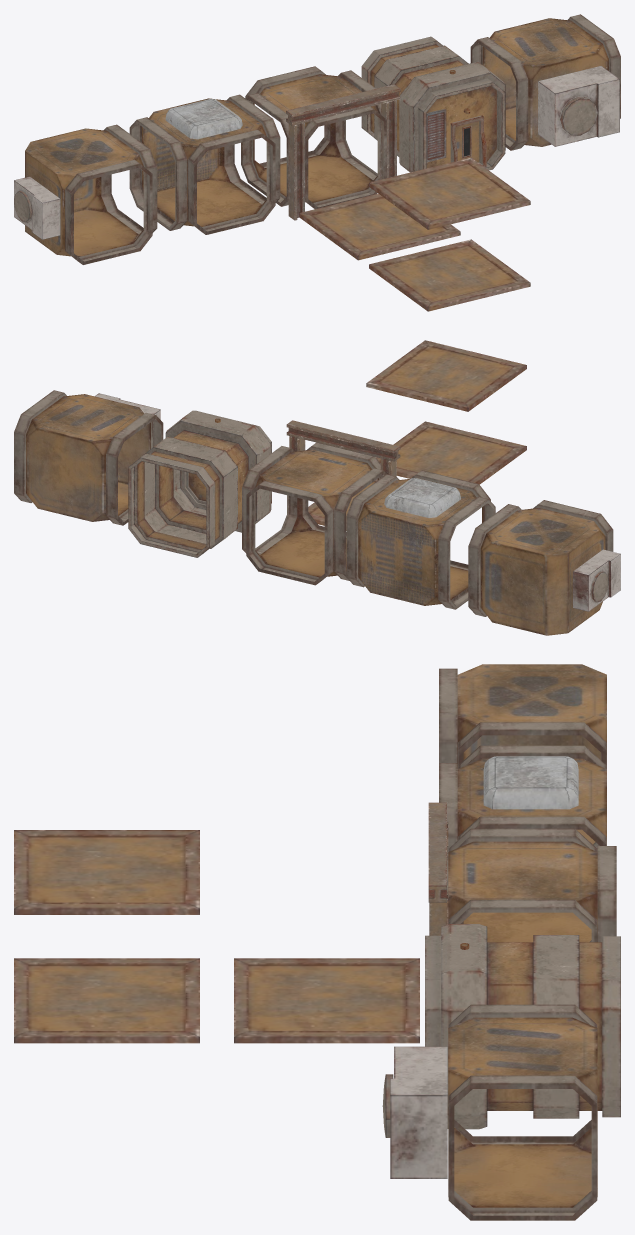
File: stacks.glb
The picture shows the model from 3 angles, top to bottom: view 1: azimuth 30°, elevation 25°; view 2: azimuth 150°, elevation 25°; view 3: azimuth 270°, elevation 25°; orthographic projection. The views are drawn at different scales.
Visible parts, largest first — view 1: Empty, T, O, R, I, =, Floor; view 2: R, I, Empty, O, T, =; view 3: Empty, =, I, O, T, Floor, R.
Boxes of the visible parts, left/top/right/bottom form: Empty: left=470, top=14, right=620, bottom=150; T: left=129, top=94, right=280, bottom=234; O: left=241, top=66, right=400, bottom=220; R: left=14, top=124, right=157, bottom=264; I: left=361, top=36, right=505, bottom=172; =: left=369, top=157, right=530, bottom=311; Floor: left=299, top=194, right=460, bottom=260; R: left=468, top=500, right=620, bottom=635; I: left=128, top=410, right=271, bottom=557; Empty: left=14, top=390, right=163, bottom=525; O: left=242, top=420, right=400, bottom=585; T: left=346, top=470, right=495, bottom=609; =: left=366, top=340, right=526, bottom=484; Empty: left=382, top=1004, right=597, bottom=1220; =: left=14, top=830, right=199, bottom=1043; I: left=425, top=924, right=620, bottom=1129; O: left=428, top=802, right=616, bottom=942; T: left=439, top=745, right=606, bottom=942; Floor: left=234, top=958, right=419, bottom=1043; R: left=439, top=664, right=606, bottom=851.
Size of the model in its own units: 25 by 4.55 by 14.6.
Materials: 3 (3 with a texture image).
